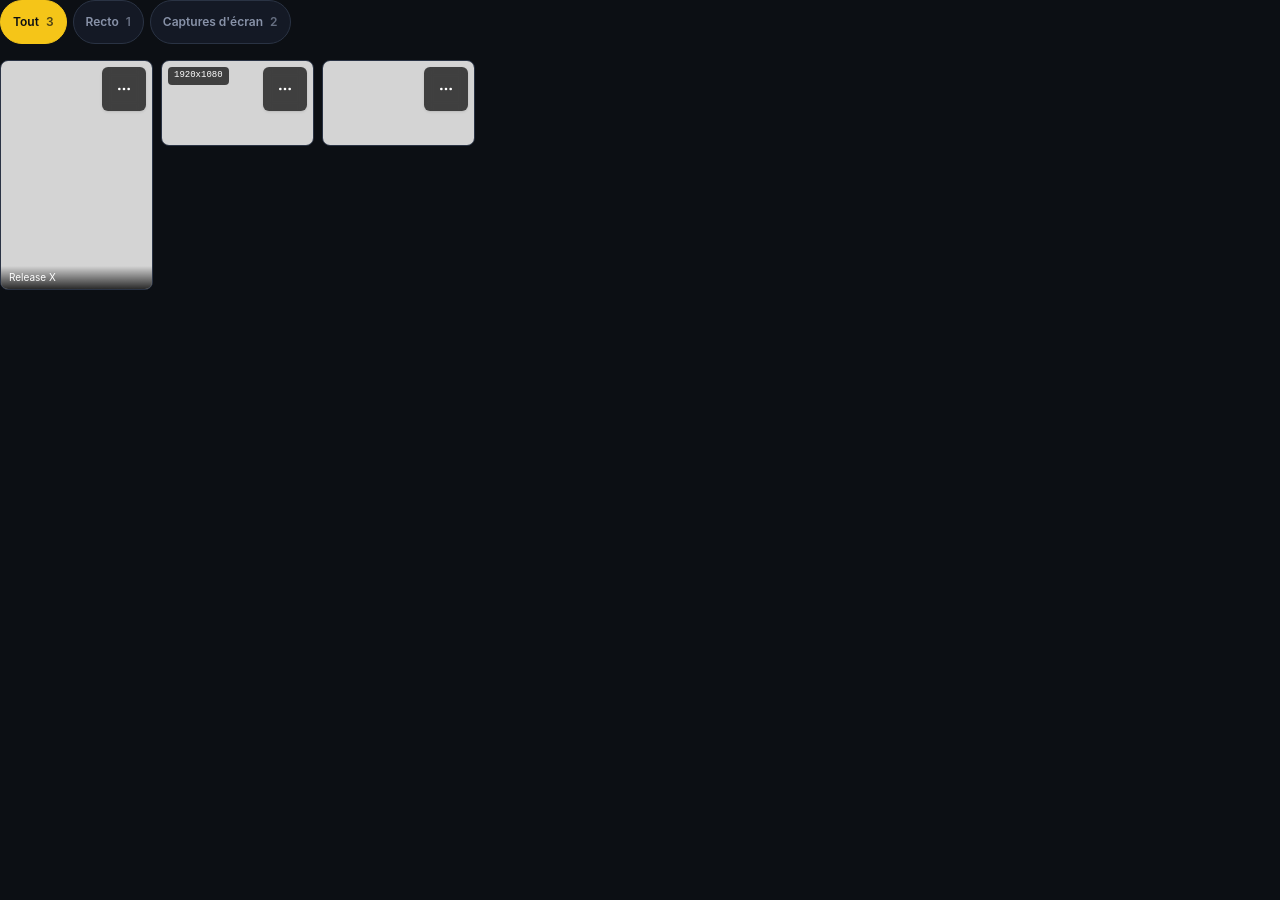
it: MediaGallery › surfaces an error toast when the cover POST fails
Step 1. Click the 1st button named "Actions" → (124, 89), box x1=102 y1=67 x2=146 y2=111
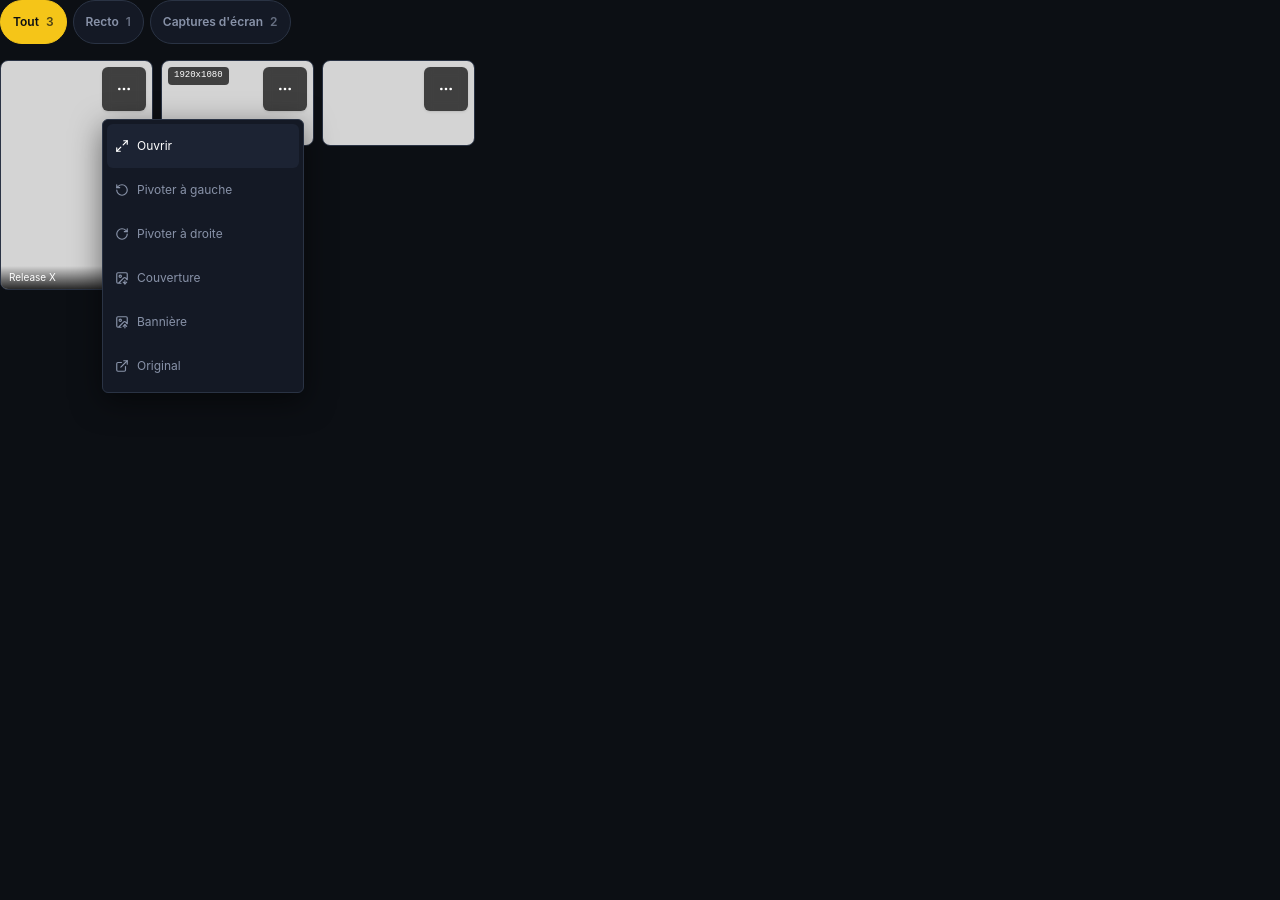
Step 2. Click the menu item with aria-label "Définir comme couverture" → (203, 278), box x1=107 y1=256 x2=299 y2=300
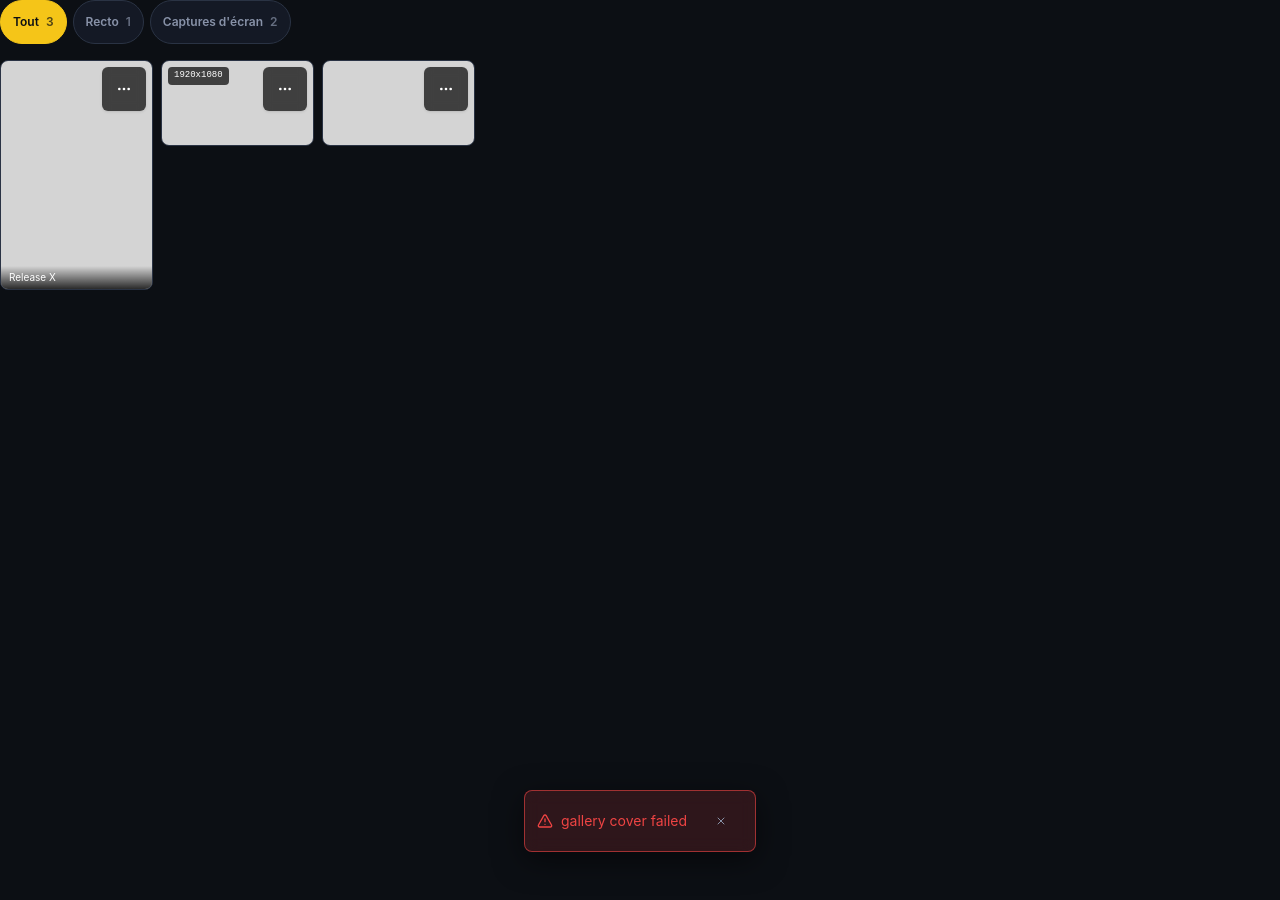
Expected: the text "gallery cover failed" is shown, x1=561 y1=811 x2=687 y2=831
